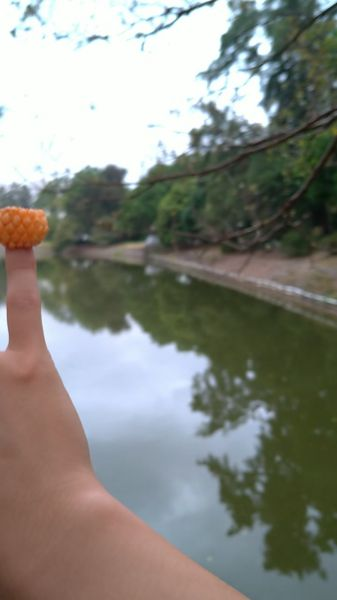eggs: (1, 205, 50, 250)
